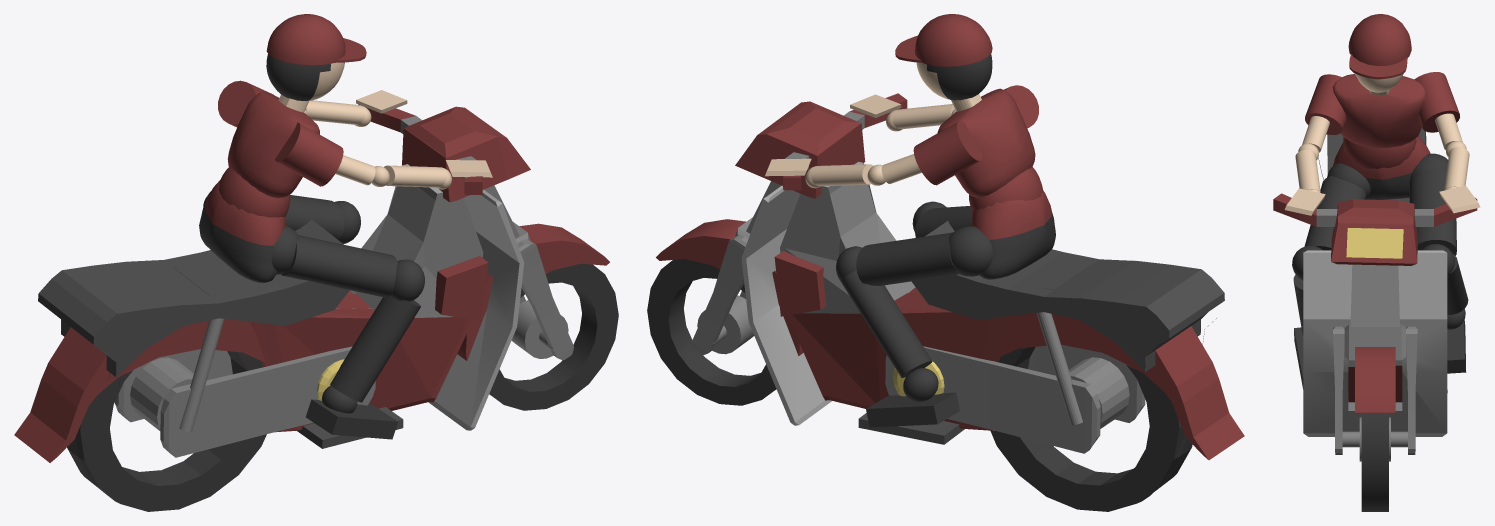
Rendered from DeliveryMan.fbx.
3 renders of one model, left to right at view 1: azimuth 30°, elevation 25°; view 2: azimuth 150°, elevation 25°; view 3: azimuth 270°, elevation 25°, orthographic. The views are drawn at different scales.
Parts seen in each view (by area): view 1: polySurface301, polySurface168, polySurface300, polySurface334, polySurface332, pasted__polySurface324, polySurface324, polySurface333; view 2: polySurface301, polySurface168, polySurface300, polySurface332, polySurface334, polySurface324, pasted__polySurface324, polySurface333; view 3: polySurface168, polySurface300, polySurface332, polySurface324, polySurface334, pasted__polySurface324, polySurface333, polySurface301.
Part boxes in pixels (x1,y1,x2,y2): polySurface301: (14, 164, 488, 511); polySurface168: (358, 104, 618, 430); polySurface300: (199, 180, 424, 439); polySurface334: (266, 14, 366, 101); polySurface332: (227, 91, 319, 198); pasted__polySurface324: (275, 122, 492, 189); polySurface324: (218, 80, 407, 127); polySurface333: (219, 167, 290, 217); polySurface301: (774, 161, 1244, 511); polySurface168: (647, 93, 907, 425); polySurface300: (836, 190, 1055, 427); polySurface332: (937, 88, 1035, 197); polySurface334: (895, 14, 992, 100); polySurface324: (765, 121, 982, 188); pasted__polySurface324: (850, 85, 1038, 131); polySurface333: (969, 167, 1043, 212); polySurface168: (1273, 193, 1477, 511); polySurface300: (1292, 136, 1468, 389); polySurface332: (1332, 73, 1425, 148); polySurface324: (1414, 72, 1480, 213); polySurface334: (1348, 14, 1411, 92); pasted__polySurface324: (1284, 74, 1346, 215); polySurface333: (1343, 137, 1416, 168); polySurface301: (1318, 127, 1447, 402).
Bounding box in the file's own units: 7.95 × 5.99 × 2.8.
